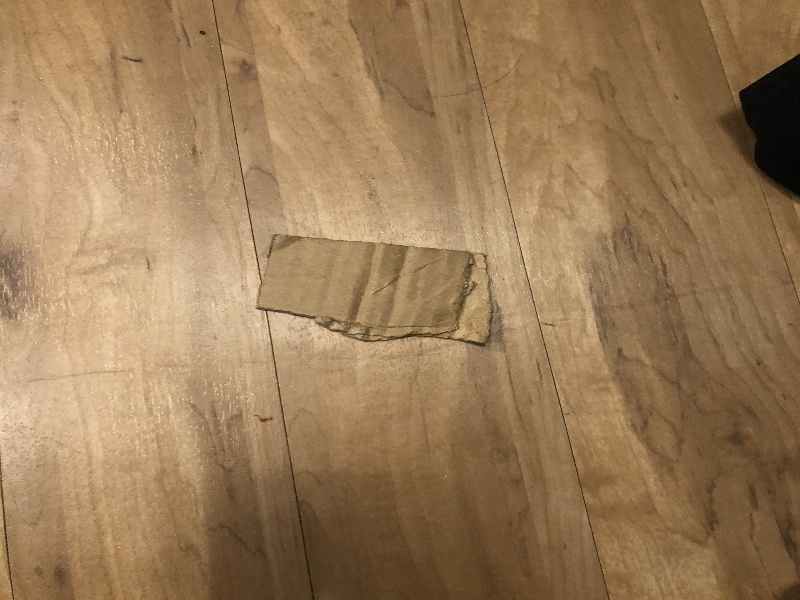cardboard: (255, 226, 507, 357)
